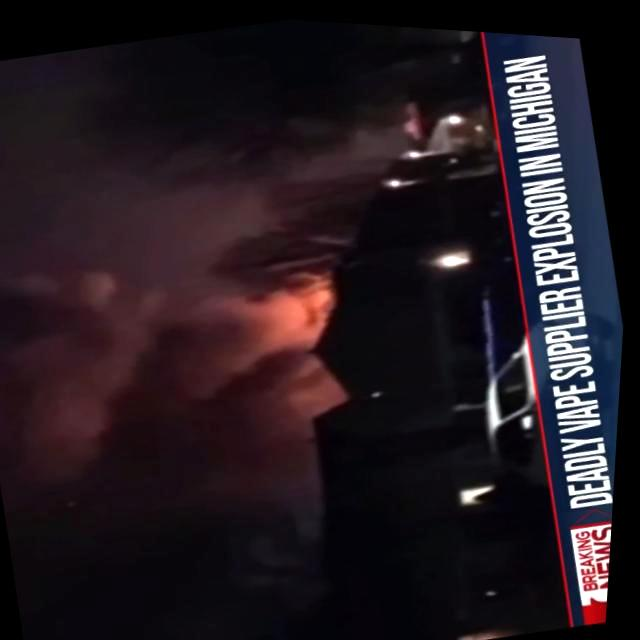fire: (212, 234, 370, 390)
